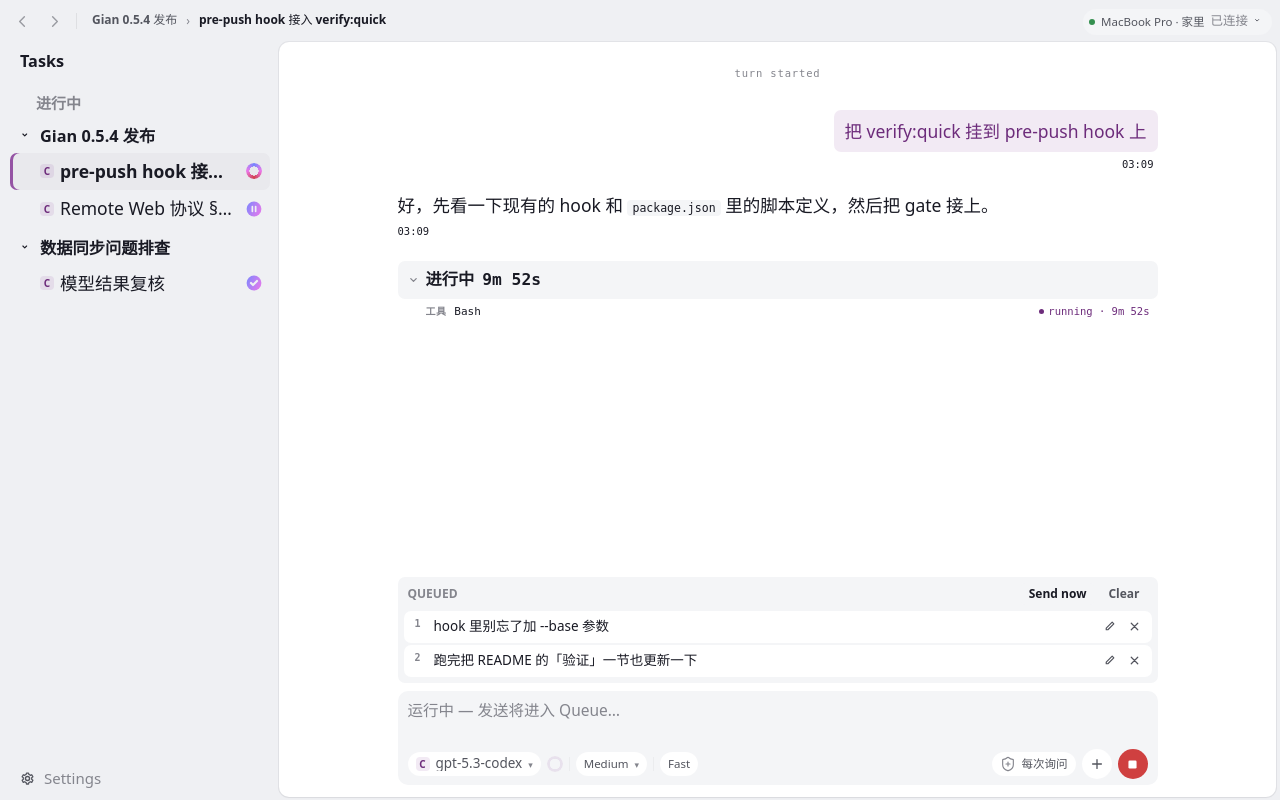
Test: chat + composer (B5) › active turn + text: primary becomes Send and the send queues by default
Type "hook 里加超时保护" into the text box at (778, 722), box [408,698,1148,745]
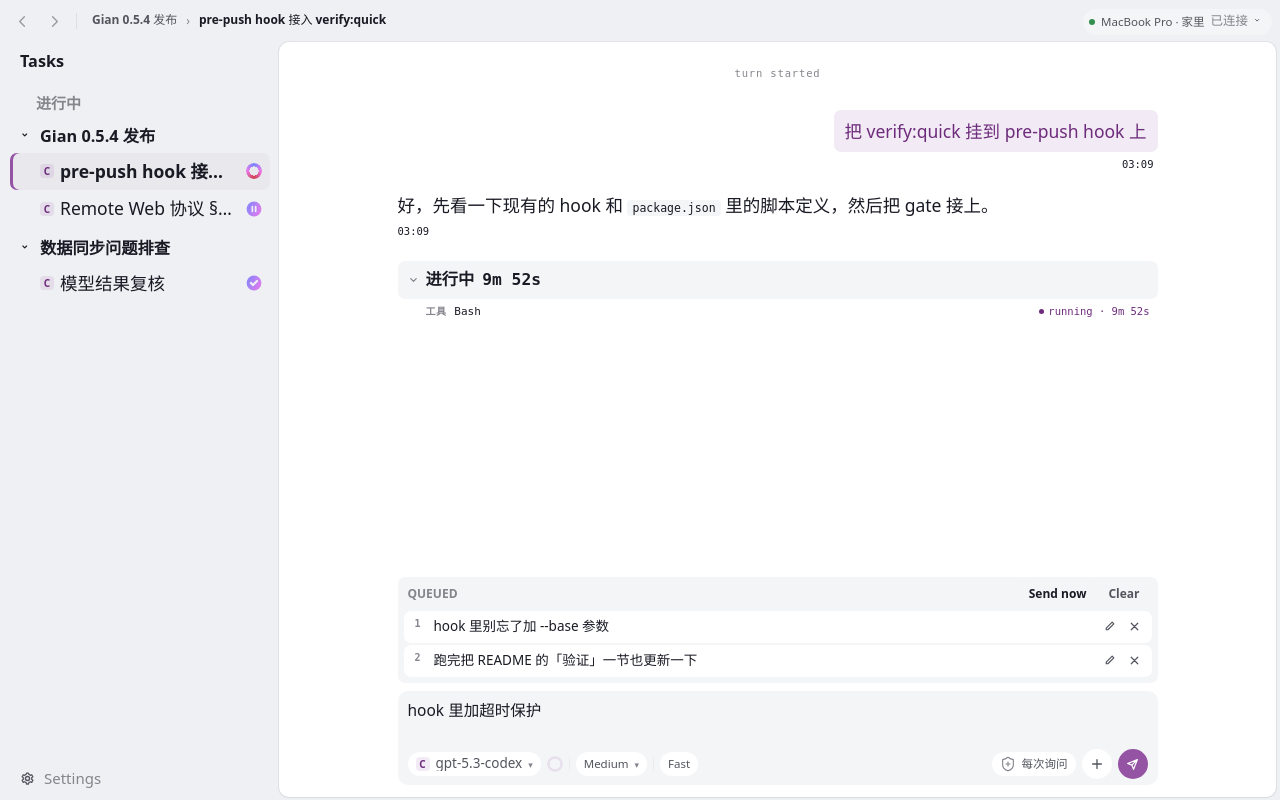
Click the button named "发送" at (1132, 764), box [1118,749,1148,779]
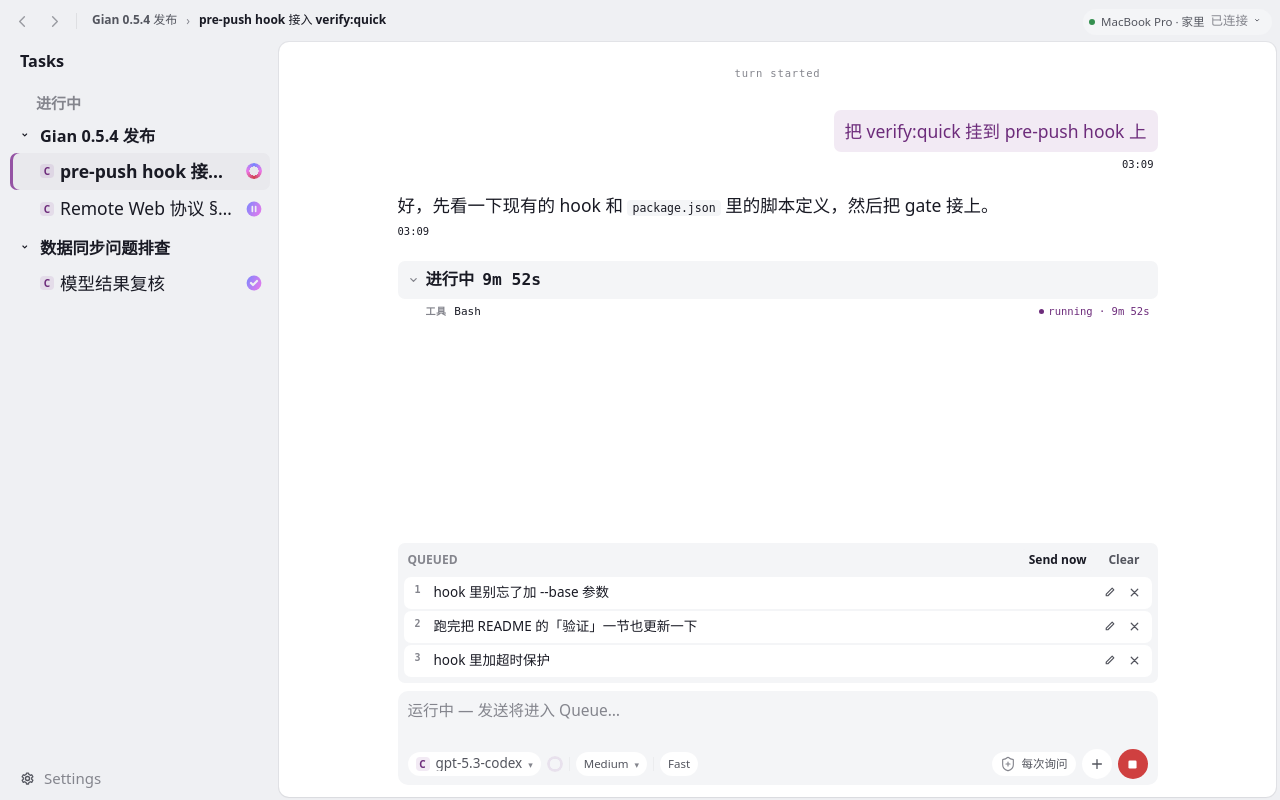
expect the text "hook 里加超时保护" is shown: met, box [434,650,550,670]
